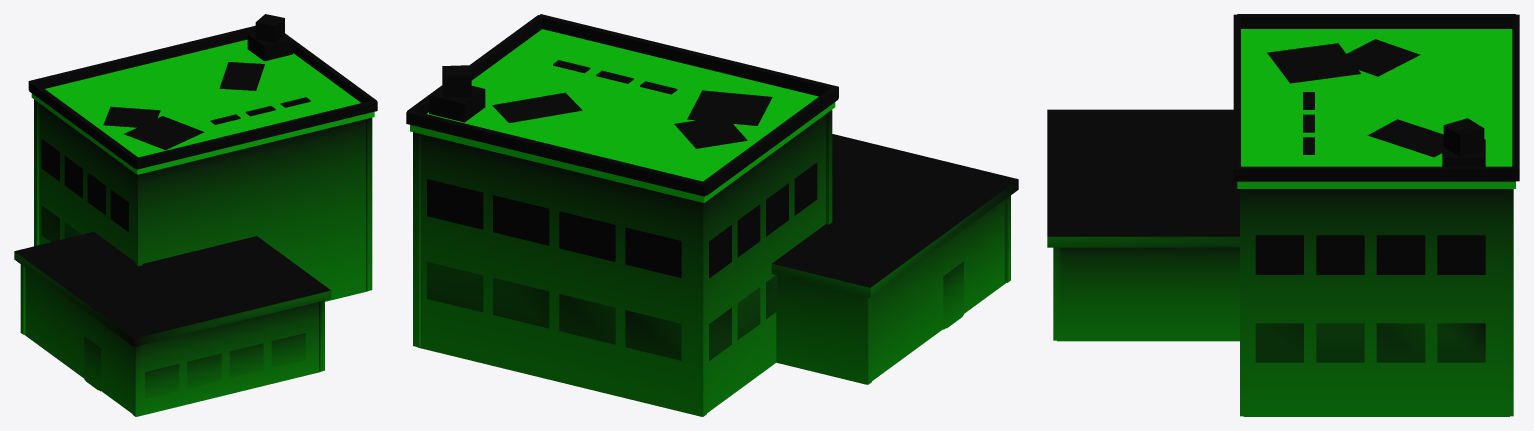
The model's file is s_spotlightcontrol.glb.
The picture shows the model from 3 angles, left to right: view 1: azimuth 30°, elevation 25°; view 2: azimuth 150°, elevation 25°; view 3: azimuth 270°, elevation 25°; orthographic projection. The views are drawn at different scales.
Visible parts, largest first — view 1: lod0; view 2: lod0; view 3: lod0.
Part boxes in pixels (box(x1,y1,x2,y2)): lod0: box(14, 14, 377, 416); lod0: box(406, 14, 1018, 416); lod0: box(1047, 14, 1519, 416).
Size of what is drawn, in the model's own units: 19.8 by 12.8 by 19.5.
